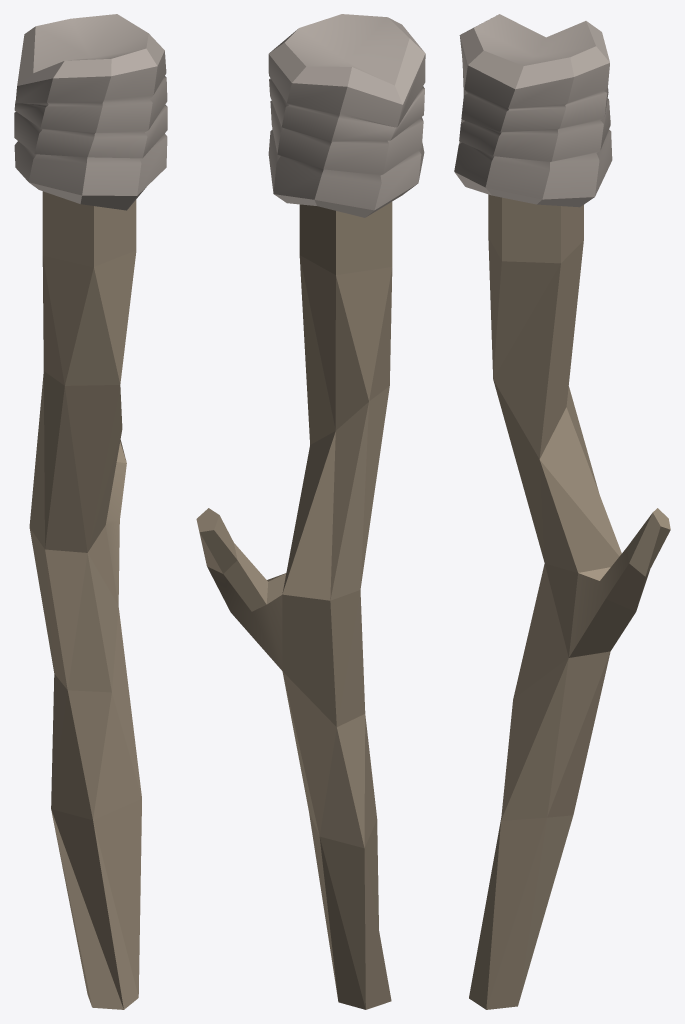
File: torch.fbx
3 renders of one model, left to right at view 1: azimuth 30°, elevation 25°; view 2: azimuth 150°, elevation 25°; view 3: azimuth 270°, elevation 25°, orthographic. The views are drawn at different scales.
Parts seen in each view (by area): view 1: torch01; view 2: torch01; view 3: torch01.
Part boxes in pixels (box(x1,y1,x2,y2)): torch01: box(14, 14, 167, 1009); torch01: box(196, 14, 425, 1009); torch01: box(454, 14, 670, 1009).
Bounding box in the file's own units: 1.33 × 8.03 × 1.63.
